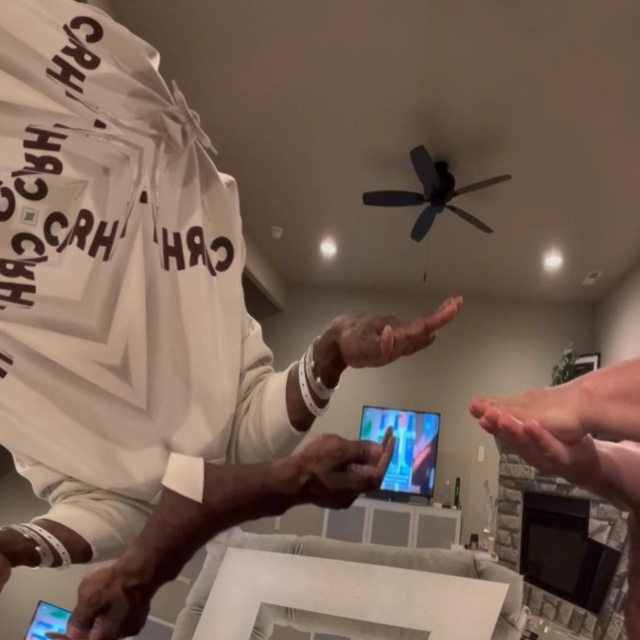Paper: (291, 224, 501, 434), (459, 328, 608, 476)
